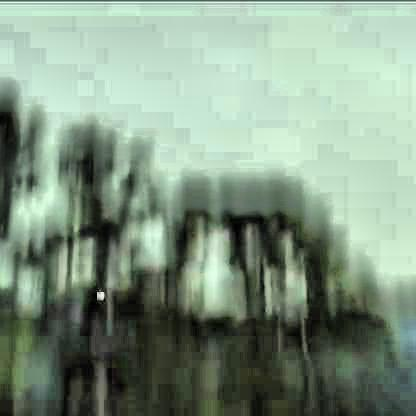golfball: (93, 289, 104, 299)
